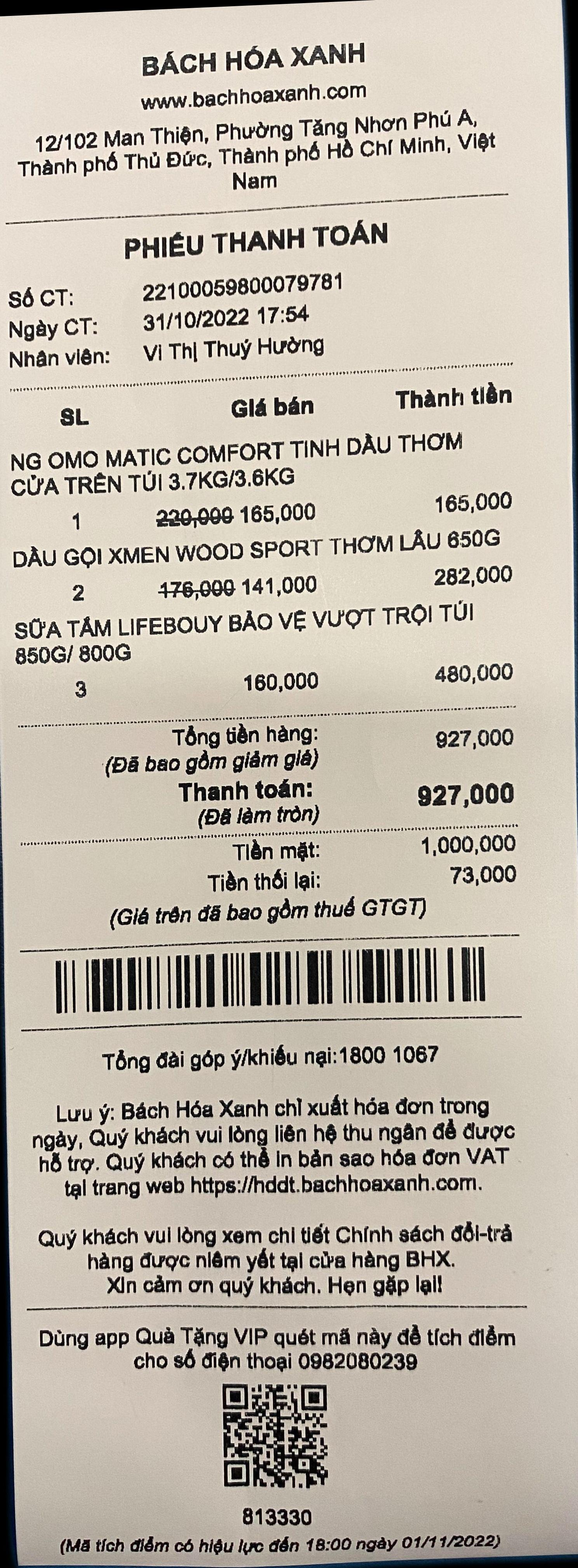Date: (134, 305, 255, 332)
Store_Name: (124, 35, 386, 85)
Total_Amount: (95, 715, 534, 754)
